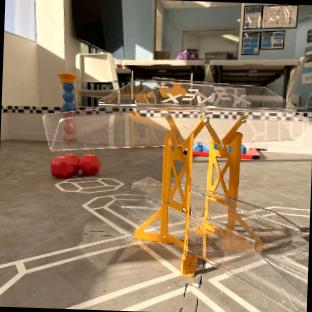Low_goal: (109, 175, 309, 312)
Med_goal: (43, 75, 312, 309)
V5_RED: (51, 155, 100, 178)
